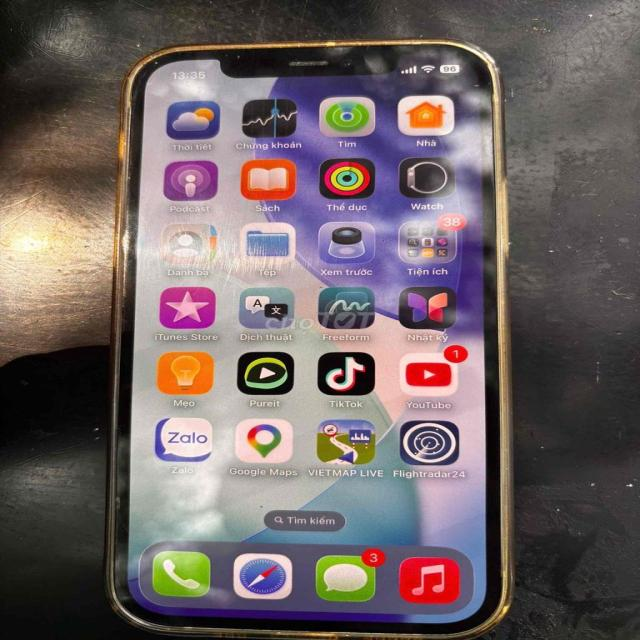gen_12_13: (80, 33, 528, 640)
